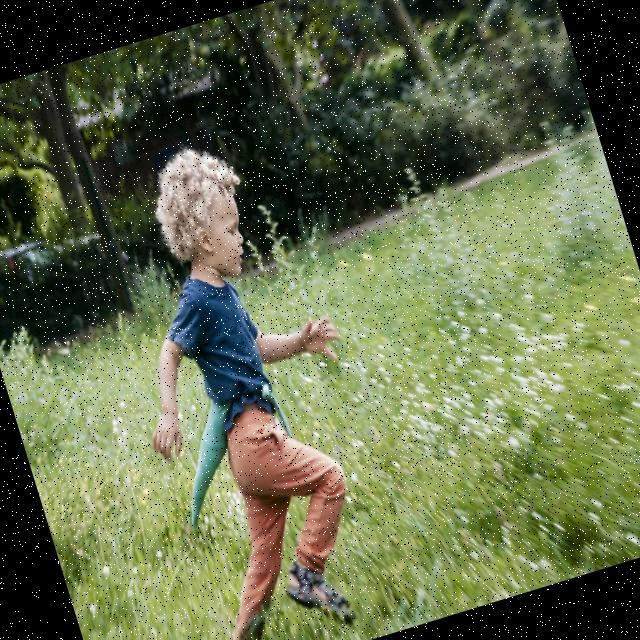Person: (72, 121, 417, 640)
